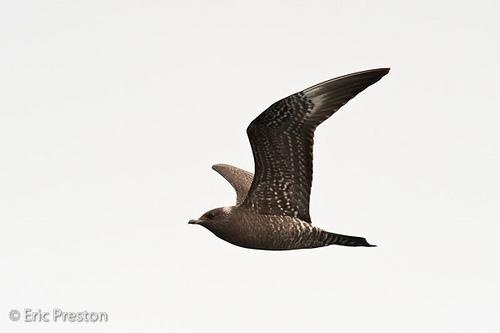bird: (189, 66, 389, 252)
